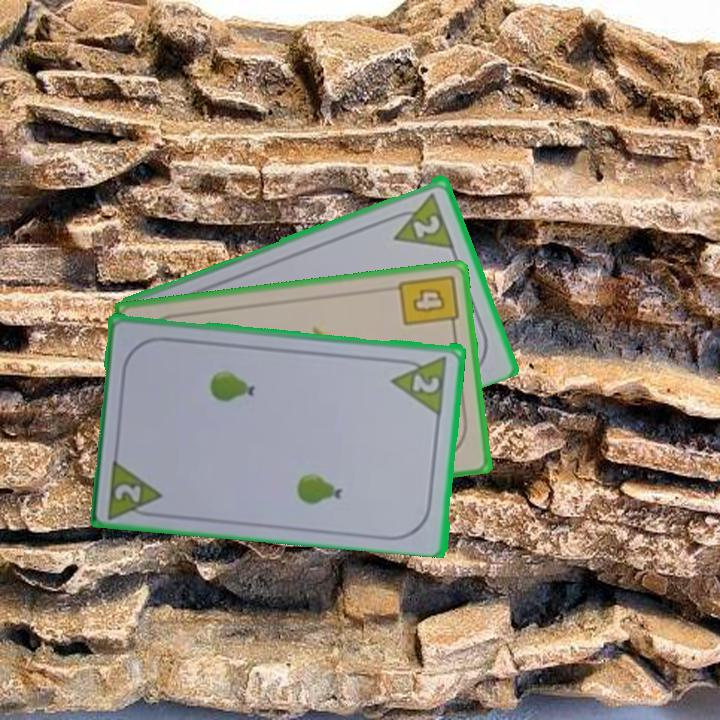2p: (104, 454, 167, 520), (410, 210, 443, 240), (409, 369, 443, 396)
4b: (395, 270, 461, 335)
